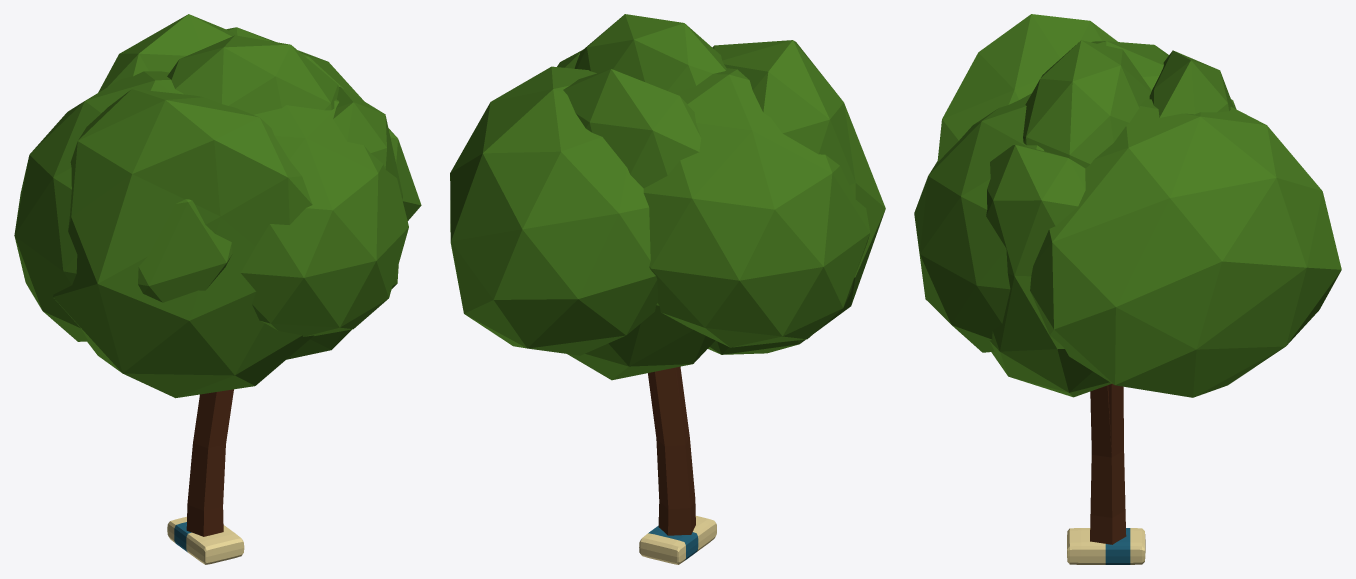
The model's file is Game Jam Objects Disturb.fbx.
3 renders of one model, left to right at view 1: azimuth 30°, elevation 25°; view 2: azimuth 150°, elevation 25°; view 3: azimuth 270°, elevation 25°, orthographic. The views are drawn at different scales.
Visible parts, largest first — view 1: Arvore 02, Arvore 01, Saco de Cimento; view 2: Arvore 01, Arvore 02, Saco de Cimento; view 3: Arvore 01, Arvore 02, Saco de Cimento.
Boxes of the visible parts, x1,y1,x2,y2 form: Arvore 02: (53, 14, 402, 448); Arvore 01: (14, 27, 421, 536); Saco de Cimento: (167, 516, 244, 564); Arvore 01: (450, 66, 870, 535); Arvore 02: (557, 14, 885, 444); Saco de Cimento: (639, 516, 716, 564); Arvore 01: (914, 41, 1341, 544); Arvore 02: (937, 14, 1233, 457); Saco de Cimento: (1067, 528, 1145, 564).
Size of the model in its own units: 2.74 by 3.65 by 2.73.
